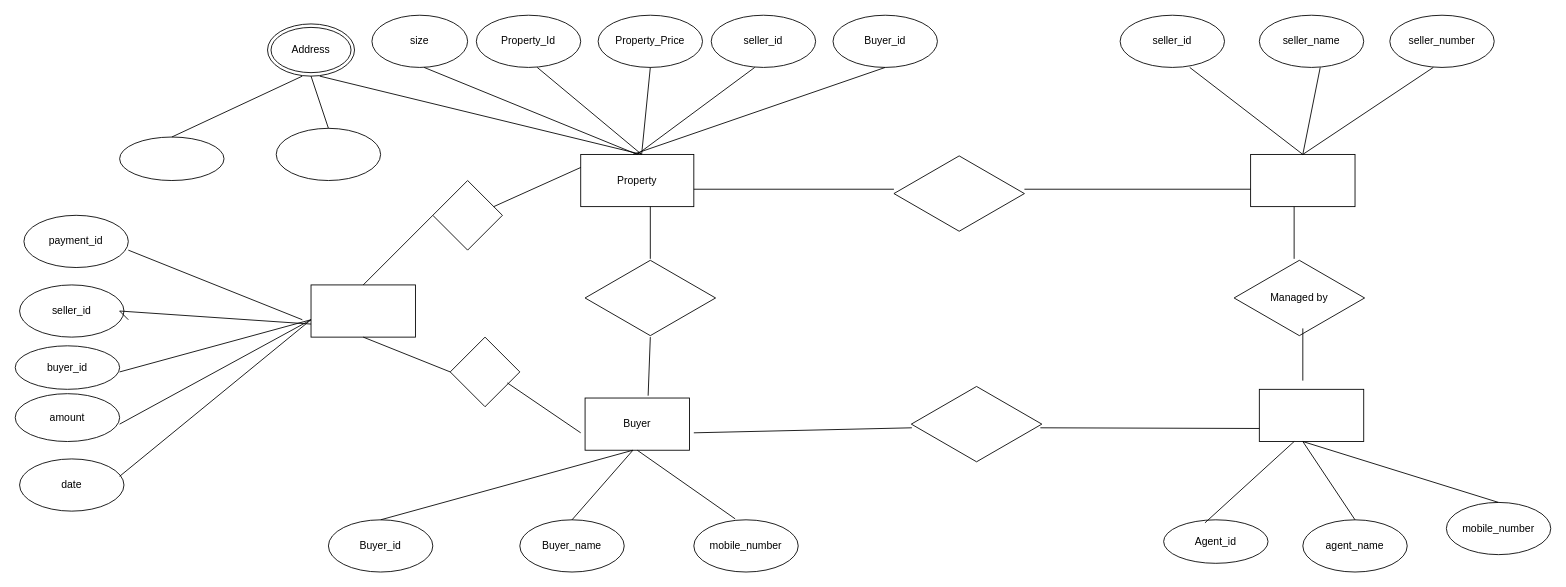
Image size: 1566x587. Some labels were removed from this diagram. Each missing label, with the centre of its shape:
Agent: [1311,415]
bough by: [650,297]
city: [171,158]
done by: [484,371]
has: [467,215]
owned by: [958,193]
Payment: [362,310]
register: [976,423]
seller: [1302,180]
street: [328,154]
